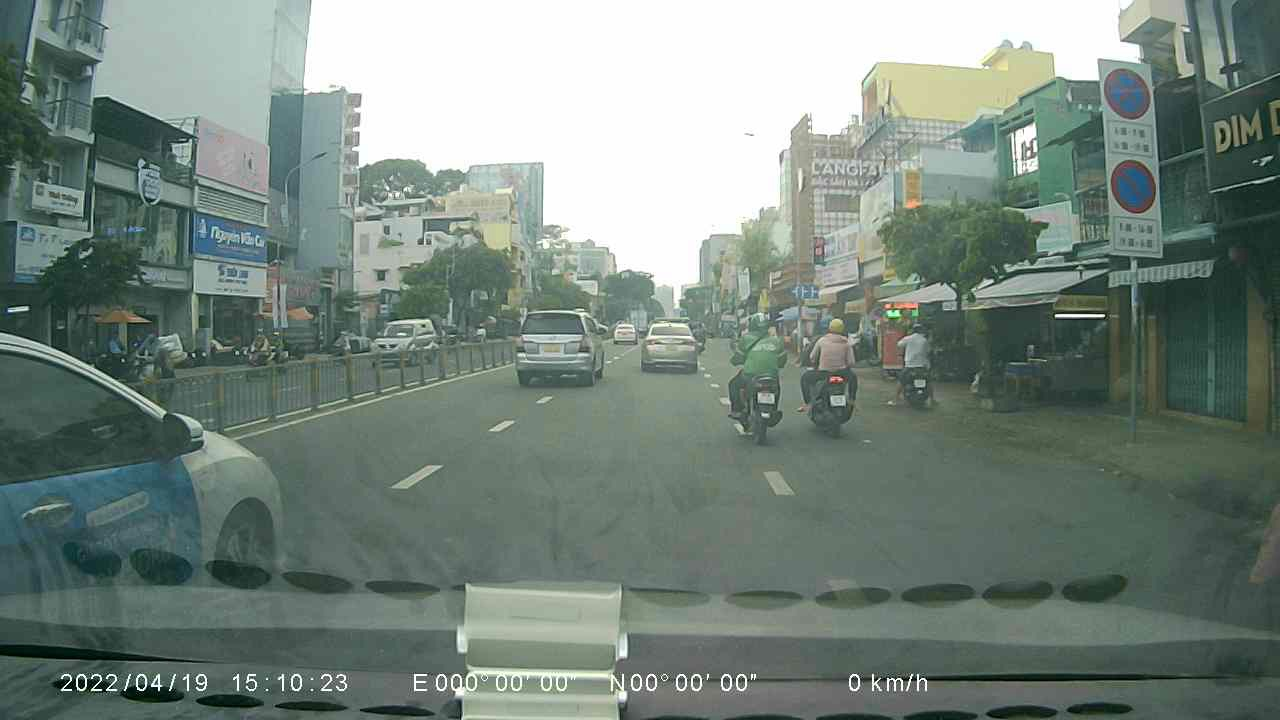Bien khac: (1104, 61, 1153, 120)
Cam do xe: (1108, 156, 1157, 214)
